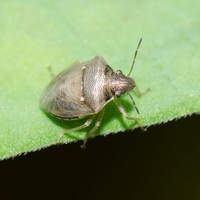insect: (40, 56, 135, 139)
